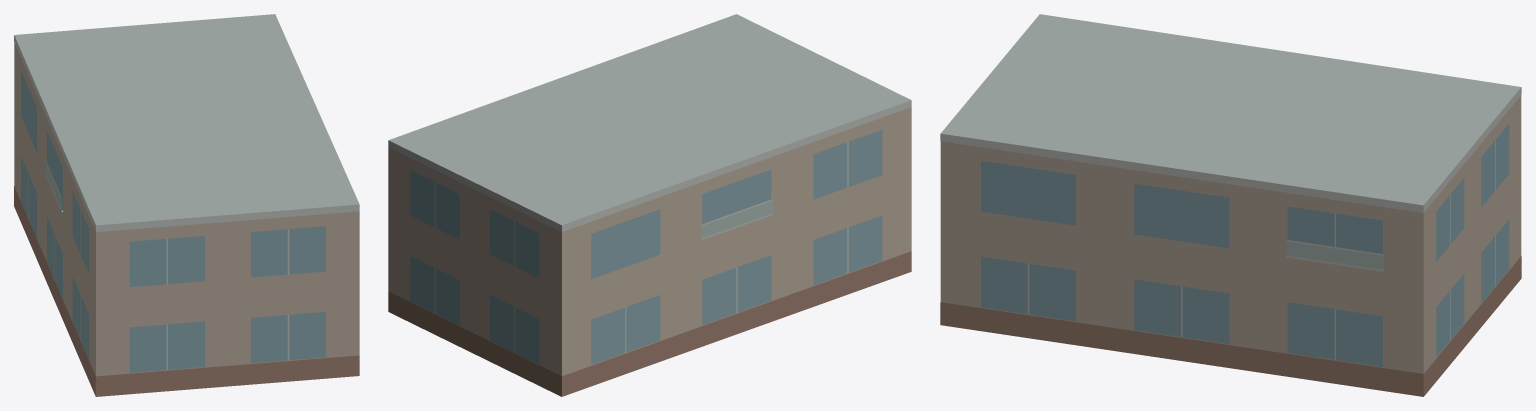
The model's file is survey-upis-32948721.glb.
3 renders of one model, left to right at view 1: azimuth 30°, elevation 25°; view 2: azimuth 150°, elevation 25°; view 3: azimuth 270°, elevation 25°, orthographic. The views are drawn at different scales.
Visible parts, largest first — view 1: survey-upis-32948721.tmp; view 2: survey-upis-32948721.tmp; view 3: survey-upis-32948721.tmp.
Boxes of the visible parts, x1,y1,x2,y2 form: survey-upis-32948721.tmp: (14, 14, 359, 396); survey-upis-32948721.tmp: (388, 14, 911, 396); survey-upis-32948721.tmp: (940, 14, 1521, 396).
Size of the model in its own units: 13.09 by 6.1 by 16.78.
